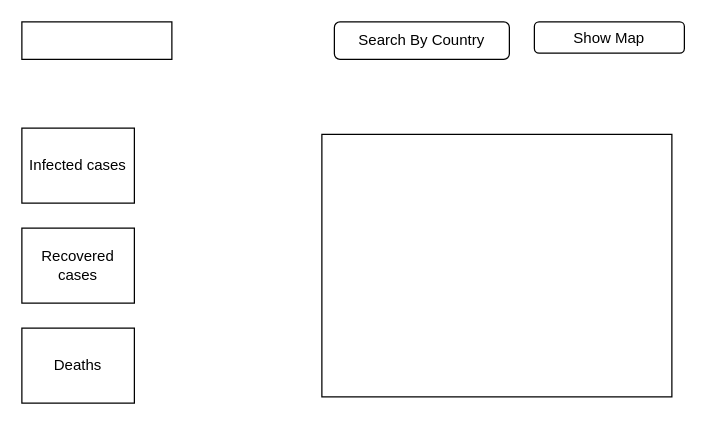
The diagram is 706 pixels wide and 425 high, and some of its shapes have lost their labels. The shapes that lost their labels are listed below. From the top down, each one's centre as x and y in pixels, then its label:
At point 96,40: "COVID-19 TRACKER".
At point 496,265: "Country graph or World Map".
